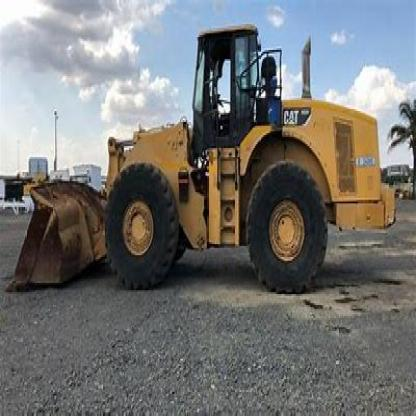bull_dozer/loader/grader: (12, 18, 400, 309)
